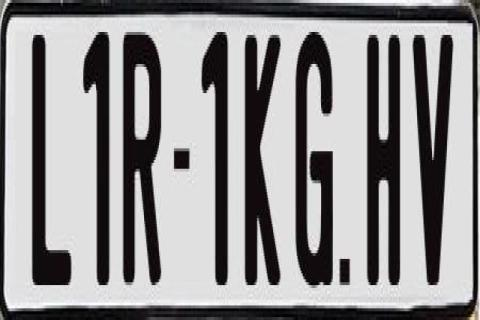0: (81, 24, 114, 282), (202, 29, 230, 288)
G: (293, 29, 331, 303)
H: (366, 26, 406, 288)
K: (244, 32, 286, 300)
L: (29, 32, 72, 291)
R: (123, 32, 164, 294)
V: (413, 35, 459, 294)
